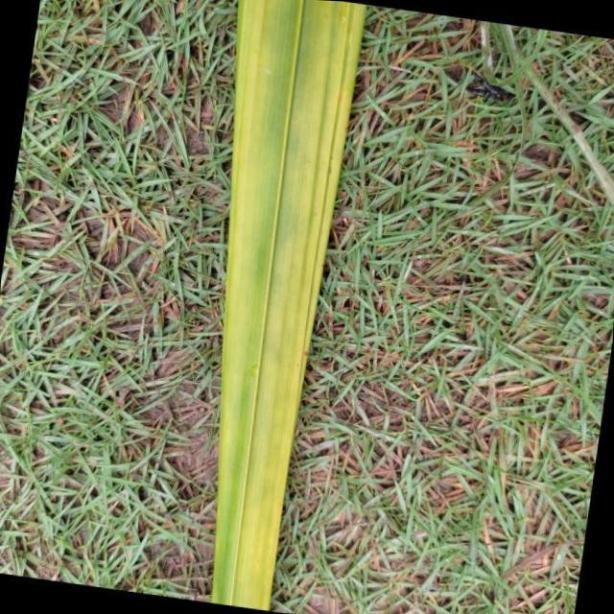nitrogen: (208, 0, 366, 614)
